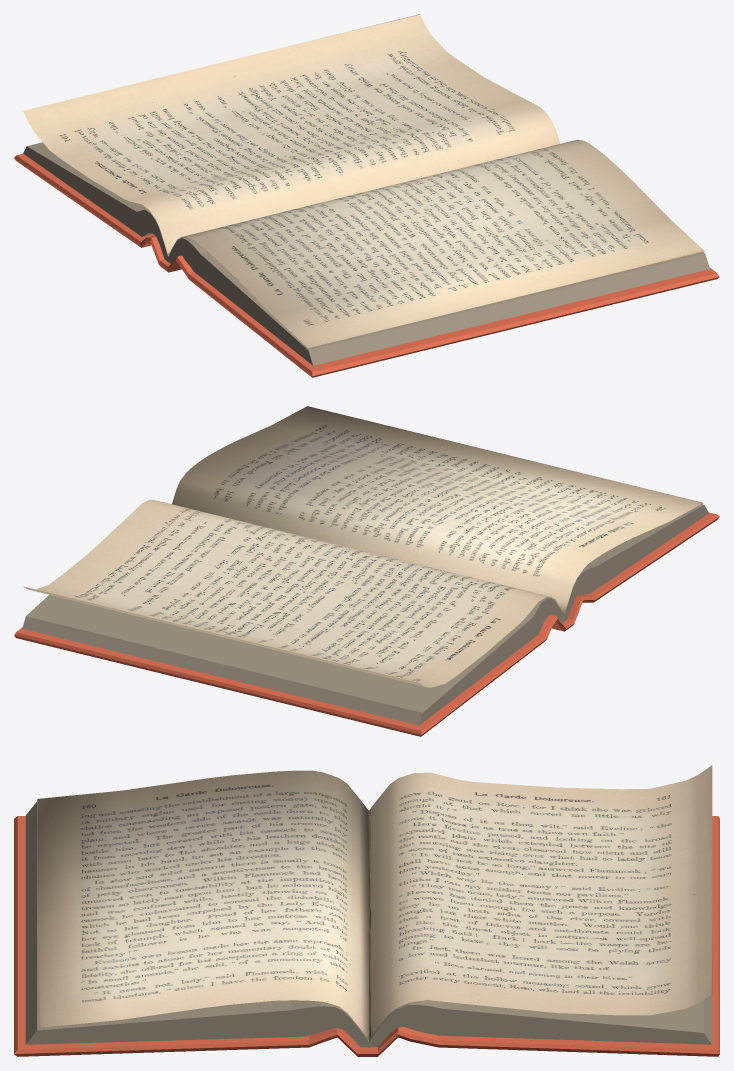
The model's file is Book.glb.
3 renders of one model, top to bottom at view 1: azimuth 30°, elevation 25°; view 2: azimuth 150°, elevation 25°; view 3: azimuth 270°, elevation 25°, orthographic. The views are drawn at different scales.
Visible parts, largest first — view 1: Book Open Pages, Book Open Pages.001, Book Middle Pages, Book Cover; view 2: Book Open Pages.001, Book Open Pages, Book Middle Pages, Book Cover; view 3: Book Open Pages, Book Open Pages.001, Book Middle Pages, Book Cover.
Part boxes in pixels (bbox=[...]): Book Open Pages: bbox=[23, 14, 560, 255]; Book Open Pages.001: bbox=[168, 139, 704, 348]; Book Middle Pages: bbox=[23, 142, 709, 365]; Book Cover: bbox=[14, 153, 719, 377]; Book Open Pages.001: bbox=[172, 406, 703, 615]; Book Open Pages: bbox=[23, 499, 563, 687]; Book Middle Pages: bbox=[22, 504, 708, 725]; Book Cover: bbox=[14, 512, 719, 736]; Book Open Pages: bbox=[369, 765, 712, 1039]; Book Open Pages.001: bbox=[37, 770, 368, 1039]; Book Middle Pages: bbox=[25, 801, 712, 1047]; Book Cover: bbox=[14, 816, 719, 1056].
Size of the model in its own units: 25.81 by 3.09 by 32.71.
Materials: 4 (2 with a texture image).
